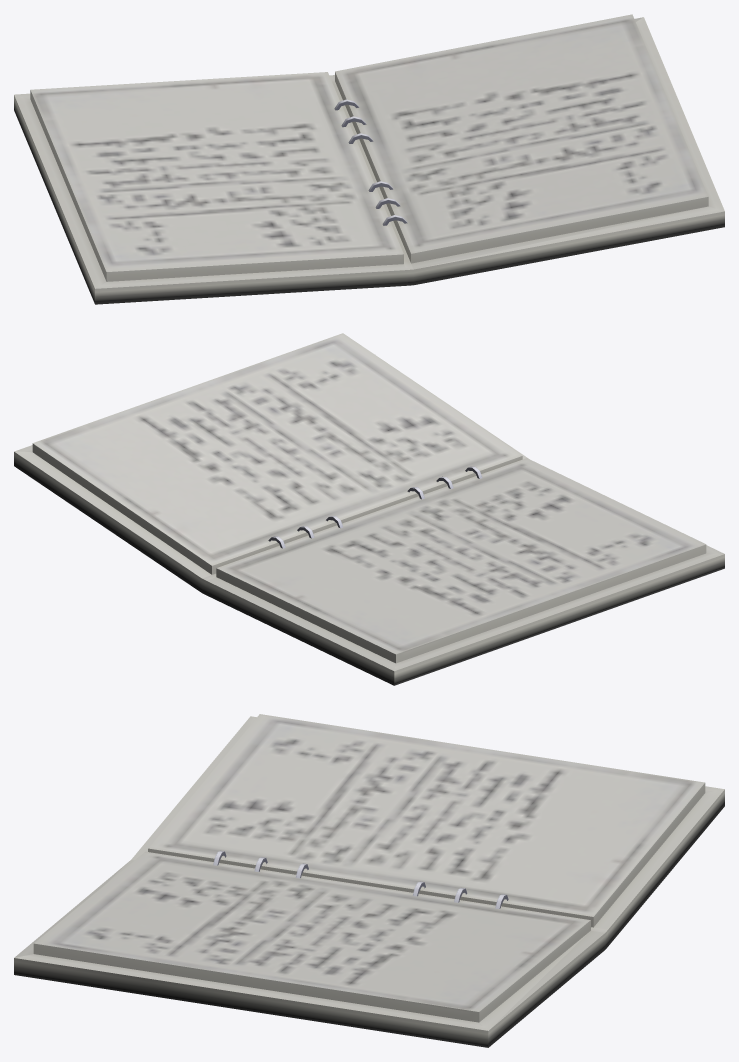
The model's file is TuShuGuan_01_bijiben_01.FBX.
The picture shows the model from 3 angles, top to bottom: view 1: azimuth 30°, elevation 25°; view 2: azimuth 150°, elevation 25°; view 3: azimuth 270°, elevation 25°; orthographic projection. The views are drawn at different scales.
Parts seen in each view (by area): view 1: TuShuGuan_01_bijiben_01; view 2: TuShuGuan_01_bijiben_01; view 3: TuShuGuan_01_bijiben_01.
Boxes of the visible parts, box(x1,y1,x2,y2) form: TuShuGuan_01_bijiben_01: box(14, 14, 724, 304); TuShuGuan_01_bijiben_01: box(14, 333, 724, 685); TuShuGuan_01_bijiben_01: box(14, 714, 724, 1047).
Size of the model in its own units: 236 by 20.71 by 204.
